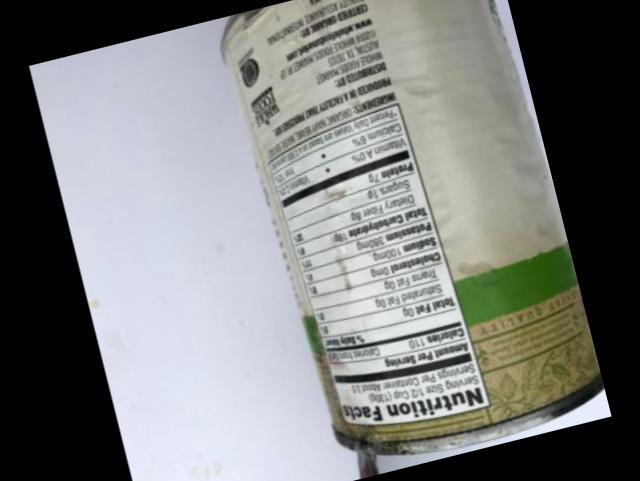metal: (220, 0, 604, 478)
